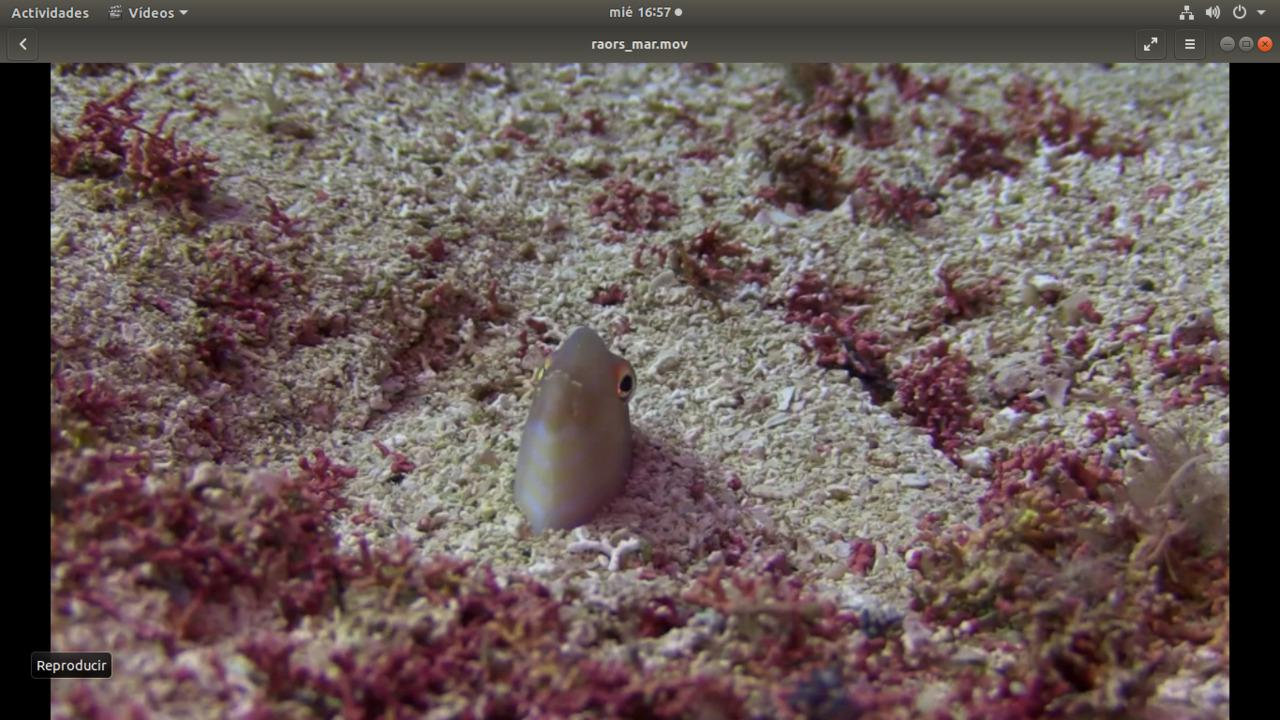raor: (503, 318, 649, 533)
